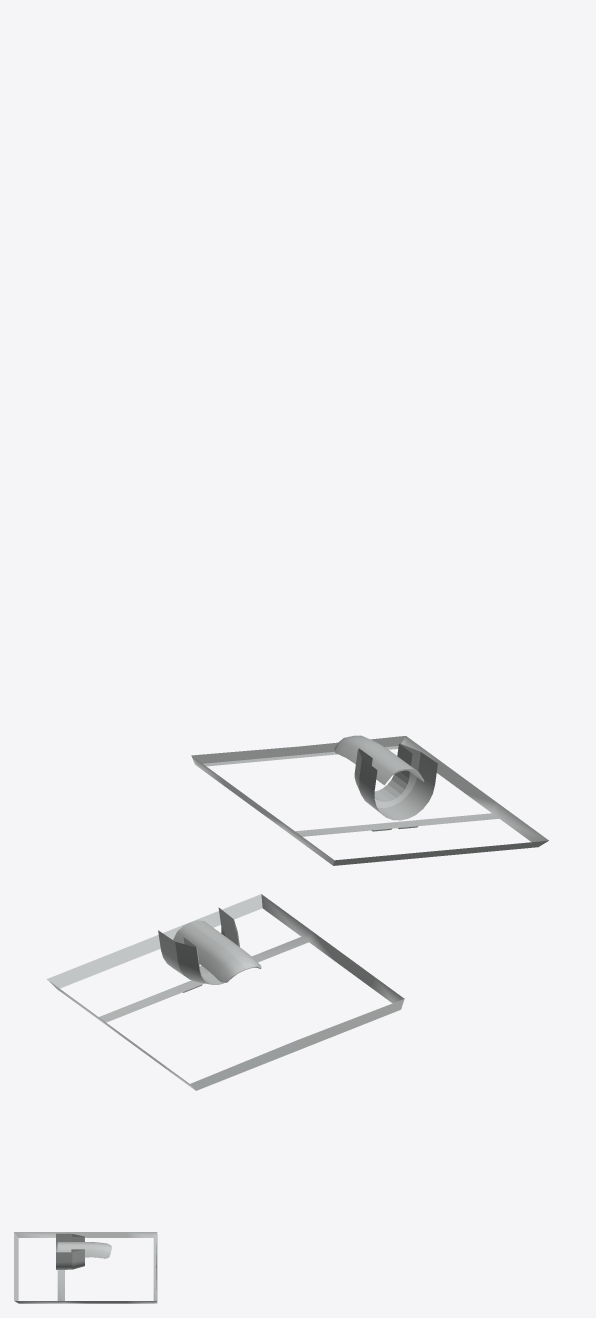
The model's file is MeshFridgeDoorE6_1_GeomSubset_2.obj.
The picture shows the model from 3 angles, top to bottom: view 1: azimuth 30°, elevation 25°; view 2: azimuth 210°, elevation 25°; view 3: azimuth 270°, elevation 25°; orthographic projection. The views are drawn at different scales.
Visible parts, largest first — view 1: MeshFridgeDoorE6_1_GeomSubset_2; view 2: MeshFridgeDoorE6_1_GeomSubset_2; view 3: MeshFridgeDoorE6_1_GeomSubset_2.
Part boxes in pixels (x1,y1,x2,y2): MeshFridgeDoorE6_1_GeomSubset_2: [191, 735, 548, 865]; MeshFridgeDoorE6_1_GeomSubset_2: [47, 894, 404, 1090]; MeshFridgeDoorE6_1_GeomSubset_2: [14, 1232, 157, 1303].
Bounding box in the file's own units: 0.2603 × 0.3582 × 0.9141.
